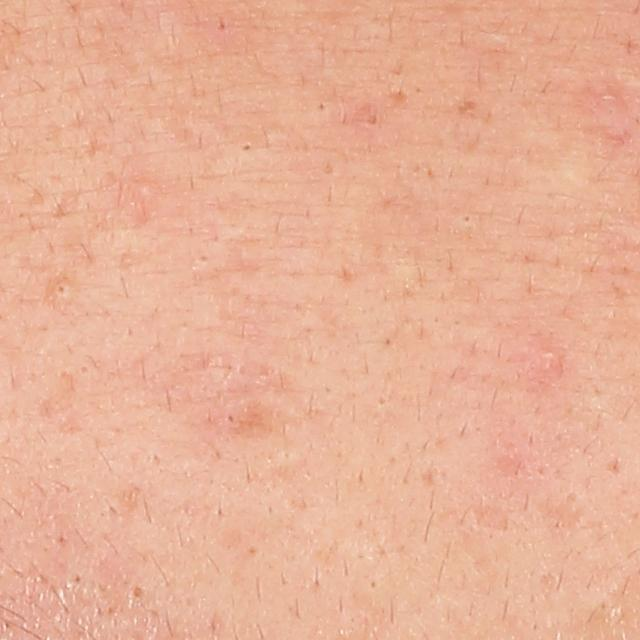comedo: (49, 279, 71, 301), (128, 582, 149, 605), (361, 112, 383, 131), (137, 181, 154, 199), (461, 211, 475, 226), (240, 140, 254, 154)
